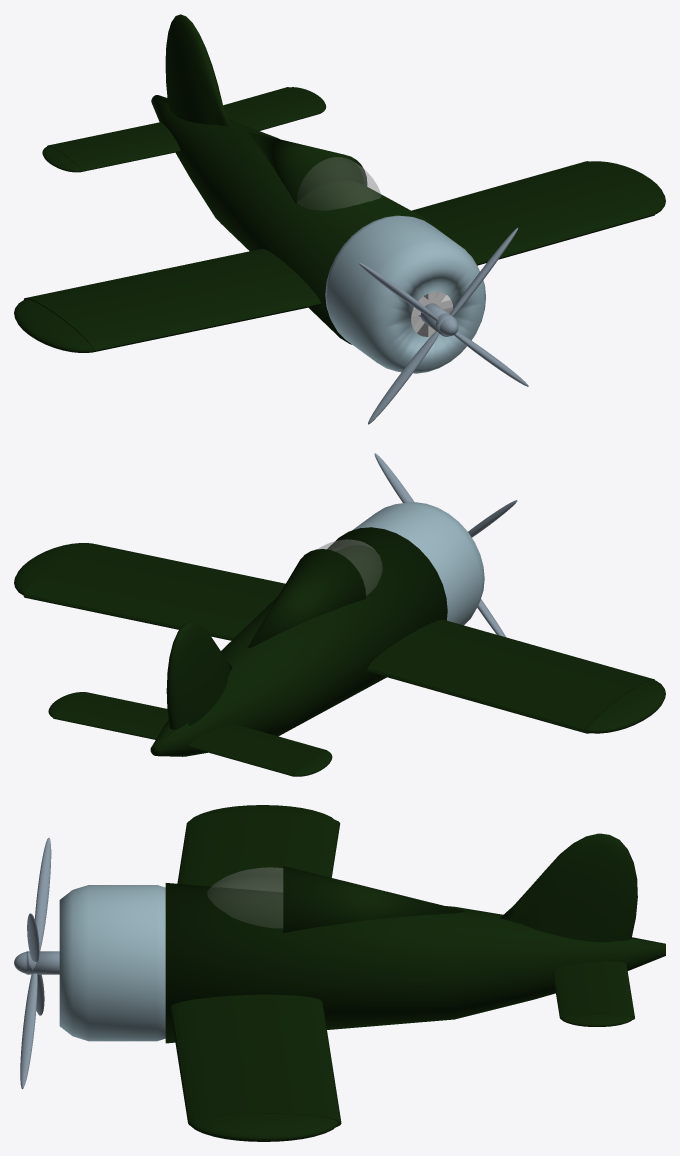
Rendered from airplane6.obj.
3 renders of one model, top to bottom at view 1: azimuth 30°, elevation 25°; view 2: azimuth 150°, elevation 25°; view 3: azimuth 270°, elevation 25°, orthographic. The views are drawn at different scales.
Visible parts, largest first — view 1: Cylinder.006, Cylinder.007, Sphere.002_Sphere.004, Sphere.005; view 2: Cylinder.006, Cylinder.007, Sphere.005, Sphere.002_Sphere.004; view 3: Cylinder.006, Cylinder.007, Sphere.002_Sphere.004, Sphere.005.
Boxes of the visible parts, x1,y1,x2,y2 form: Cylinder.006: (14,14,665,352); Cylinder.007: (325,215,485,373); Sphere.002_Sphere.004: (359,228,528,424); Sphere.005: (297,157,381,210); Cylinder.006: (14,527,665,776); Cylinder.007: (352,502,484,625); Sphere.005: (318,539,382,595); Sphere.002_Sphere.004: (374,453,517,637); Cylinder.006: (165,805,665,1141); Cylinder.007: (59,885,165,1041); Sphere.002_Sphere.004: (14,838,59,1088); Sphere.005: (207,867,283,927).
Size of the model in its own units: 12.84 by 3.98 by 10.64.
